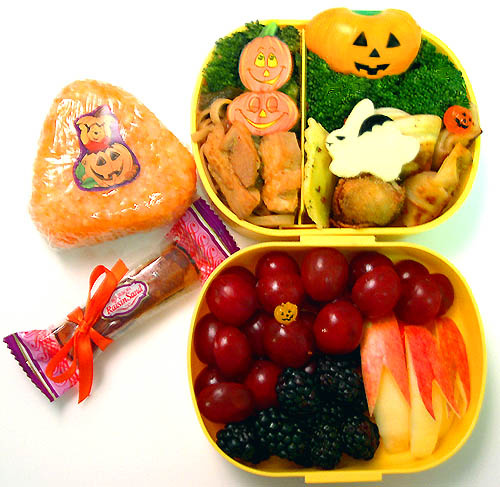broccoli: (196, 19, 301, 105), (300, 50, 369, 129), (398, 64, 468, 113)
